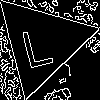L: (16, 18, 55, 69)
